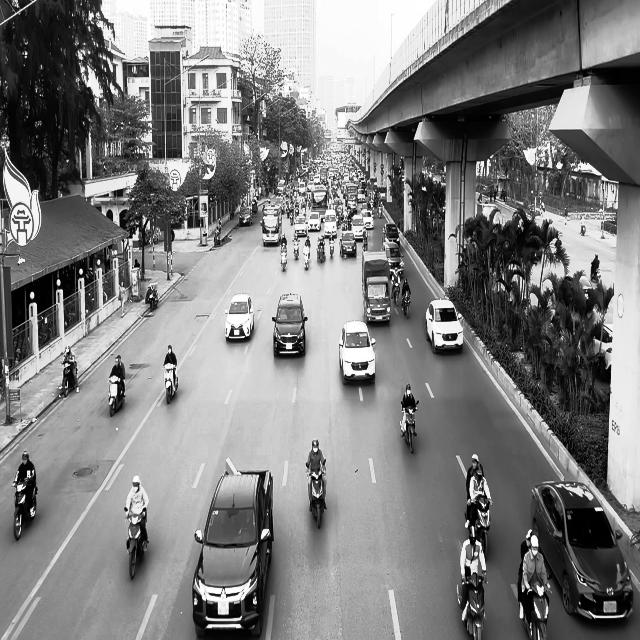car: (530, 480, 634, 622), (192, 461, 274, 636), (339, 320, 376, 386), (272, 292, 308, 357), (424, 298, 464, 354), (224, 293, 254, 341), (238, 206, 252, 226)
motorbike: (456, 573, 487, 639), (124, 506, 149, 580), (523, 575, 551, 639), (12, 477, 37, 540), (467, 497, 492, 557), (306, 458, 326, 528), (400, 399, 419, 453), (58, 361, 79, 398), (108, 375, 125, 417), (163, 362, 178, 403), (146, 283, 158, 311), (280, 246, 287, 271)
